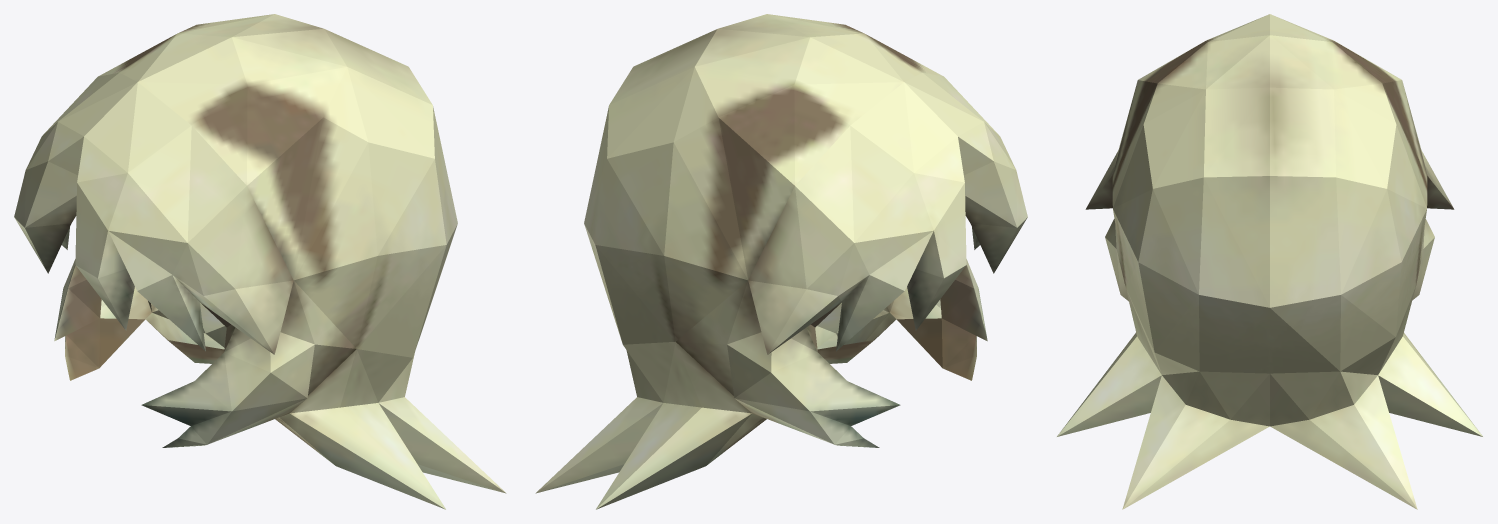
The model's file is Cat_default.obj.
The picture shows the model from 3 angles, left to right: view 1: azimuth 30°, elevation 25°; view 2: azimuth 150°, elevation 25°; view 3: azimuth 270°, elevation 25°; orthographic projection. The views are drawn at different scales.
Visible parts, largest first — view 1: Cat_default_tri; view 2: Cat_default_tri; view 3: Cat_default_tri.
Part boxes in pixels (x1=…): Cat_default_tri: x1=14, y1=14, x2=506, y2=509; Cat_default_tri: x1=535, y1=14, x2=1027, y2=509; Cat_default_tri: x1=1057, y1=14, x2=1482, y2=509.
Size of the model in its own units: 0.3027 by 0.3317 by 0.3276.
1 material, 1 textured.
